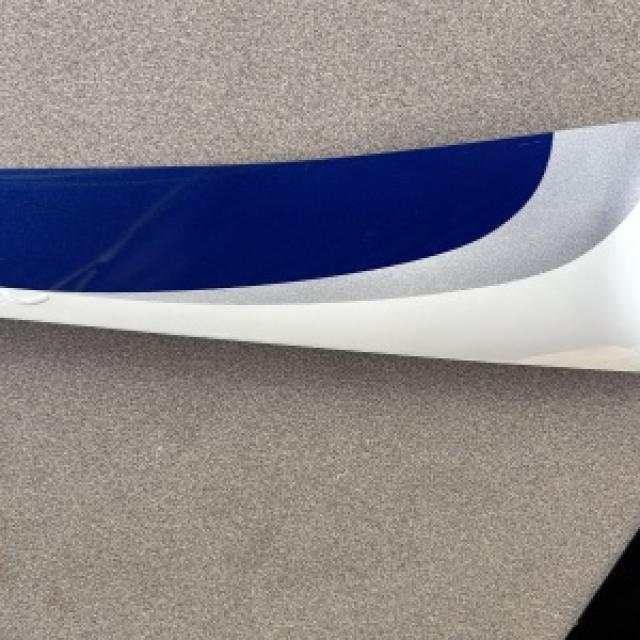healthy: (0, 320, 638, 638), (0, 119, 638, 369), (0, 0, 638, 164)
